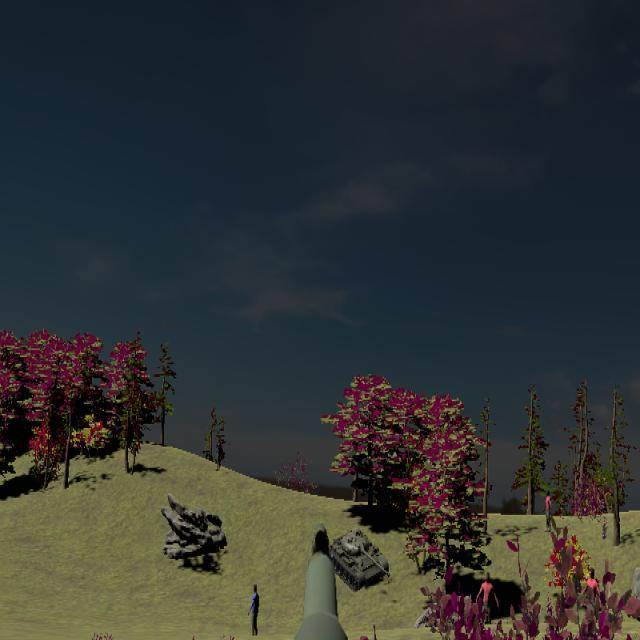Human: (476, 571, 500, 640)
Tank: (329, 528, 390, 592)
